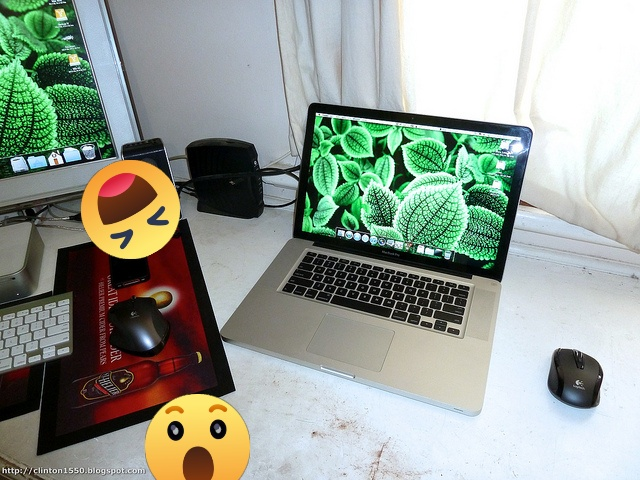haha: (81, 160, 180, 259)
wow: (145, 394, 250, 480)
